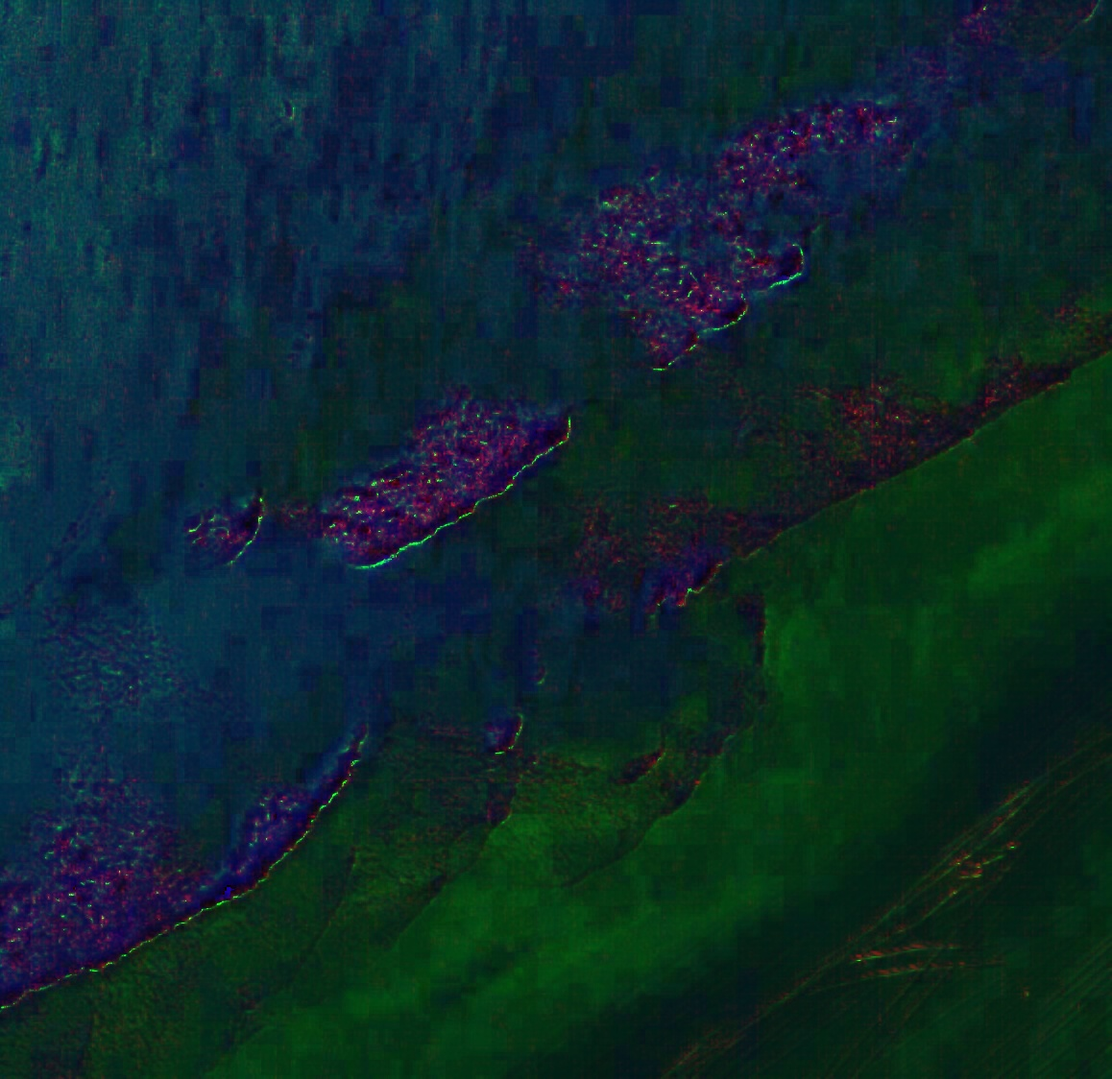rip_current: (89, 444, 785, 858)
